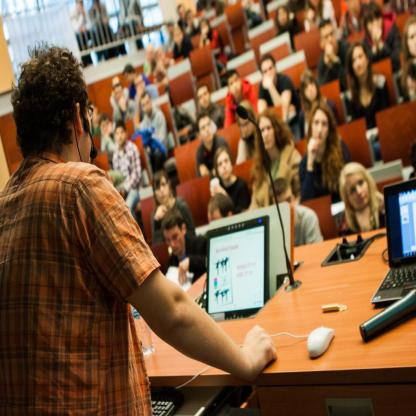board: (370, 178, 416, 305), (131, 303, 155, 355)
